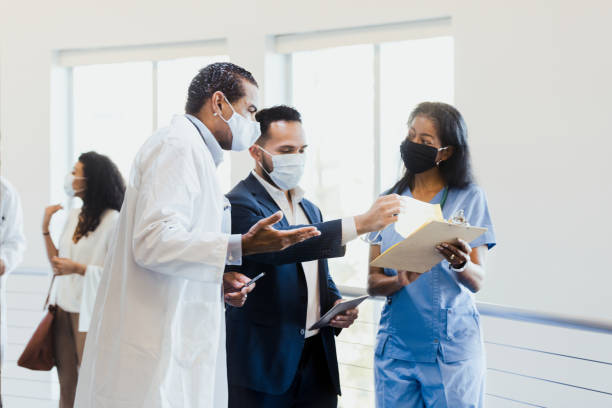with mask: (186, 71, 261, 155), (251, 104, 309, 192), (58, 134, 116, 222), (396, 100, 448, 181)
